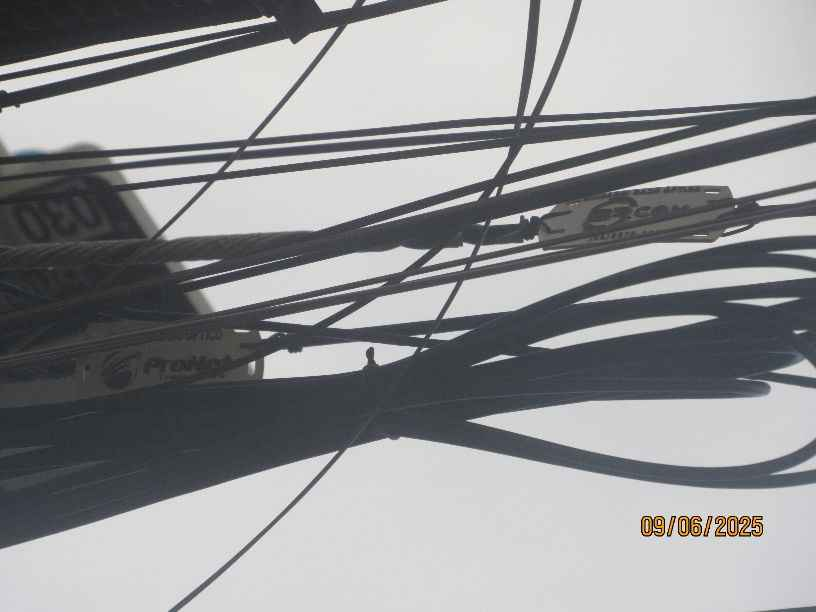fibra_optica: (73, 308, 294, 396), (508, 184, 751, 248)
